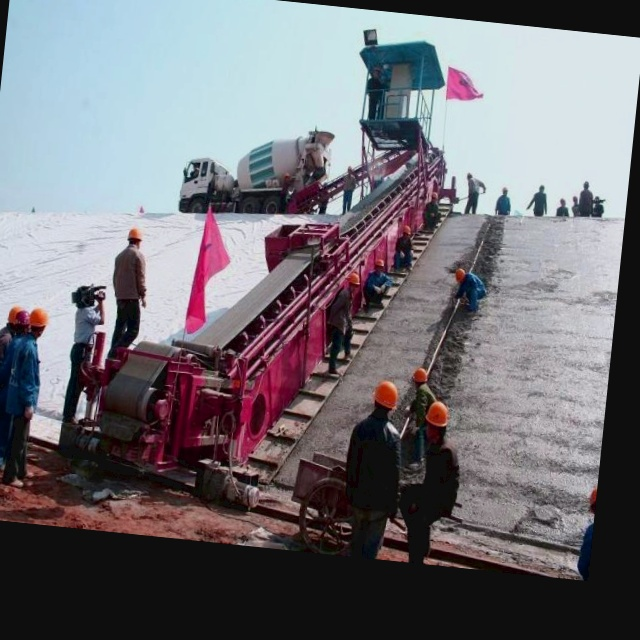Sin_Chaleco: (340, 412, 405, 513), (111, 245, 148, 302)
